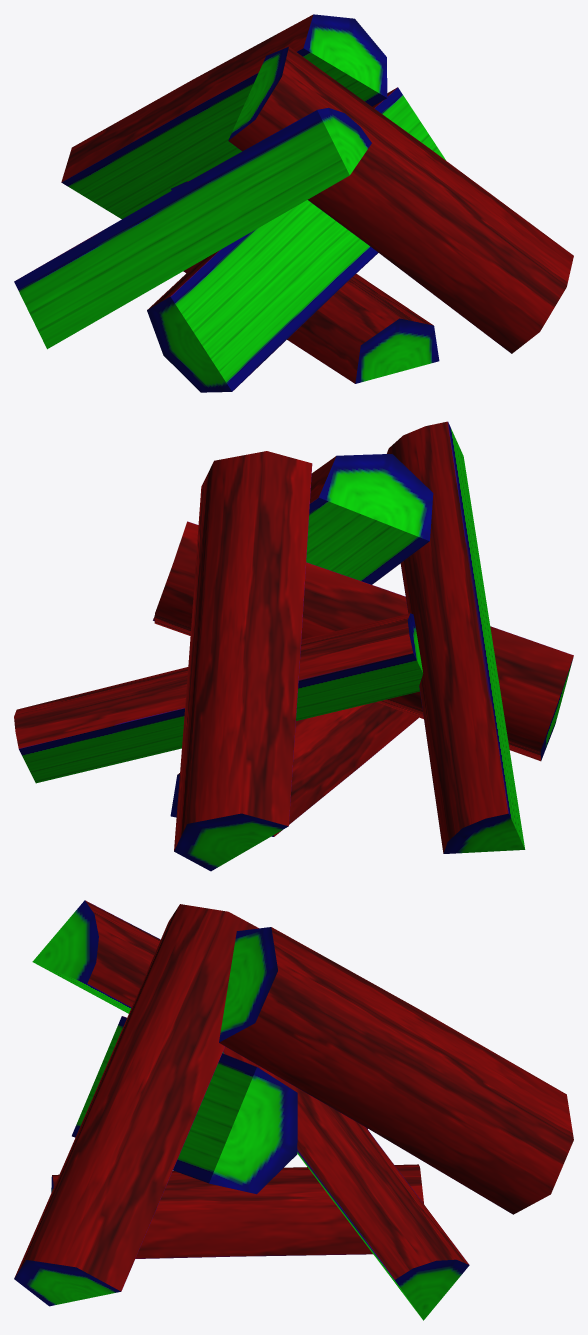
Rendered from Campfire01.fbx.
3 renders of one model, top to bottom at view 1: azimuth 30°, elevation 25°; view 2: azimuth 150°, elevation 25°; view 3: azimuth 270°, elevation 25°, orthographic. The views are drawn at different scales.
Parts seen in each view (by area): view 1: Campfire01_LOD0; view 2: Campfire01_LOD0; view 3: Campfire01_LOD0.
Boxes of the visible parts, x1,y1,x2,y2 form: Campfire01_LOD0: (14,14,573,392); Campfire01_LOD0: (14,421,573,871); Campfire01_LOD0: (14,900,573,1320).
Size of what is drawn, in the model's own units: 0.4335 by 0.2791 by 0.4352.
